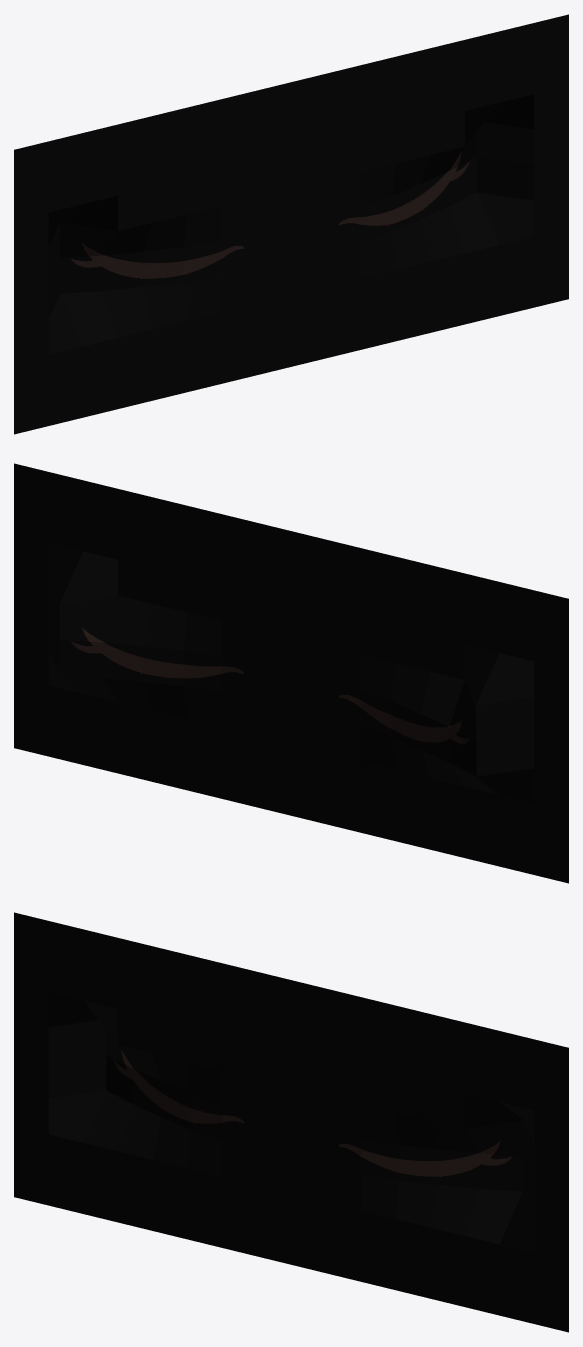
The model's file is eye_closed.glb.
The picture shows the model from 3 angles, top to bottom: view 1: azimuth 30°, elevation 25°; view 2: azimuth 150°, elevation 25°; view 3: azimuth 330°, elevation 25°; orthographic projection.
Parts seen in each view (by area): view 1: eye_closed; view 2: eye_closed; view 3: eye_closed.
Boxes of the visible parts, x1,y1,x2,y2 form: eye_closed: [14, 14, 568, 434]; eye_closed: [14, 463, 568, 883]; eye_closed: [14, 912, 568, 1332].
Size of the model in its own units: 0.6851 by 0.3358 by 0.0511.
1 material, 1 textured.
